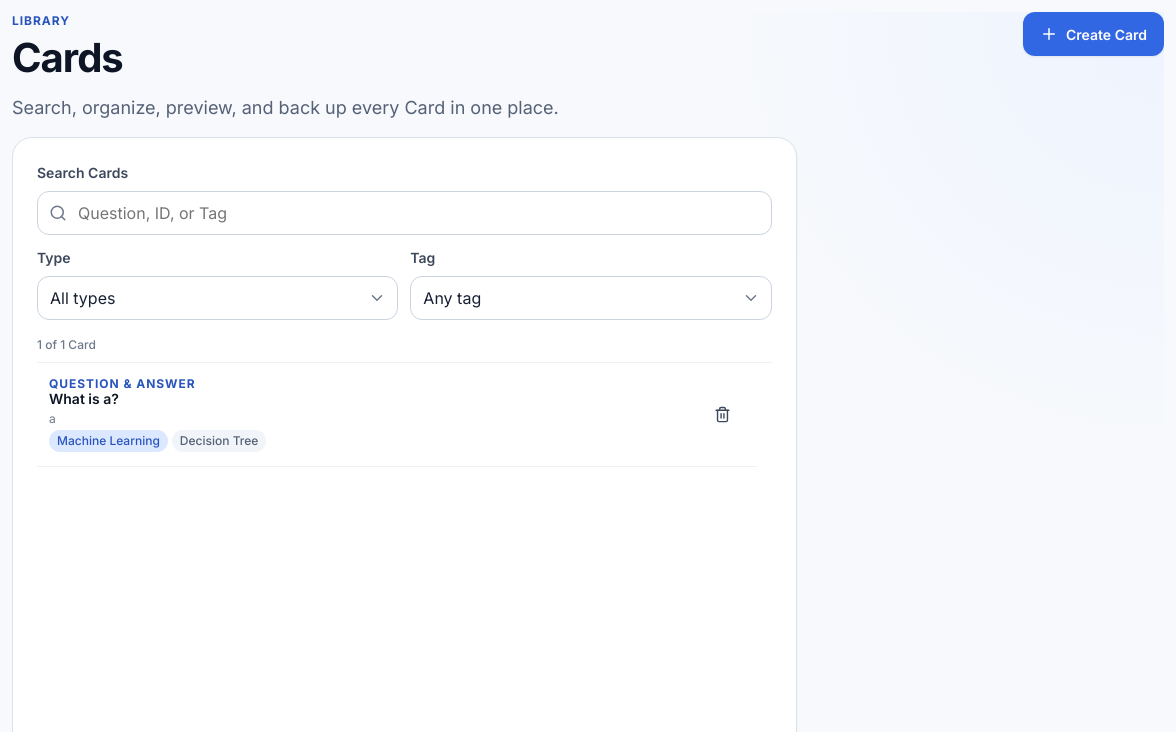
Test: the count shows the listed and all Cards, the plural following all: 0 of 1 Card
The width and height of the screenshot is (1176, 732).
Type "zzz" into the search field labelled "Search Cards" at (404,213), box [37,191,772,235]
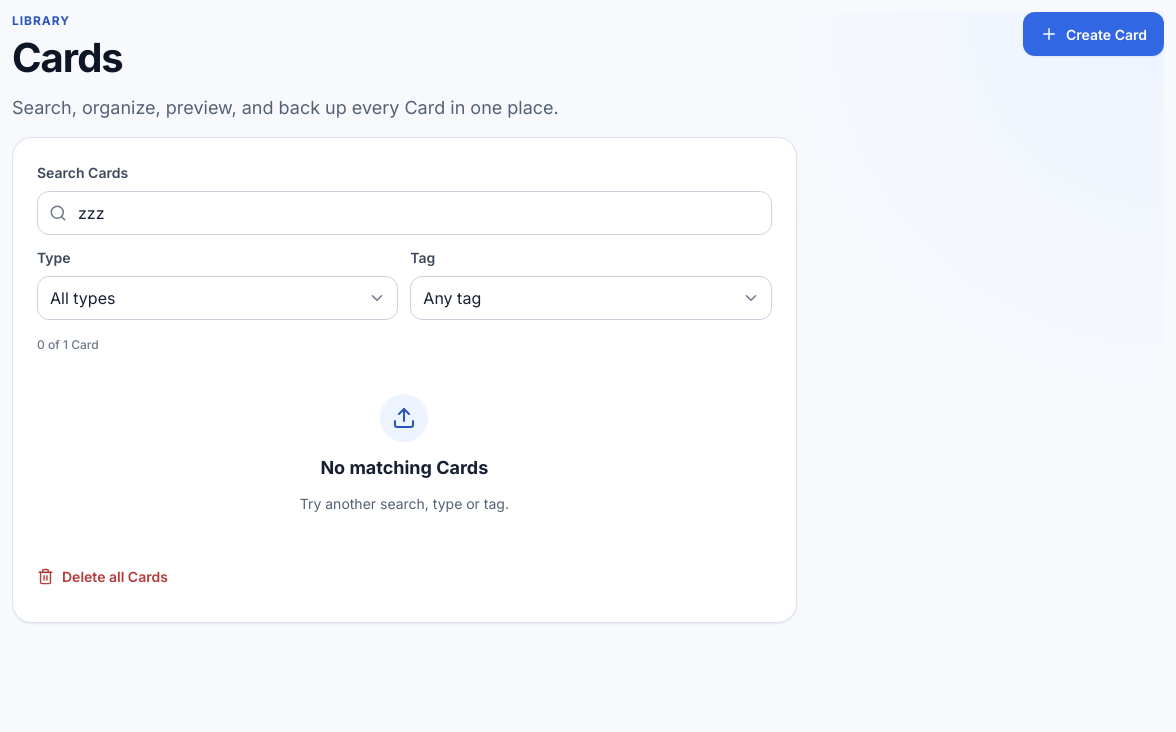
Expected: the text "0 of 1 Card" is shown, [37,336,99,354]
